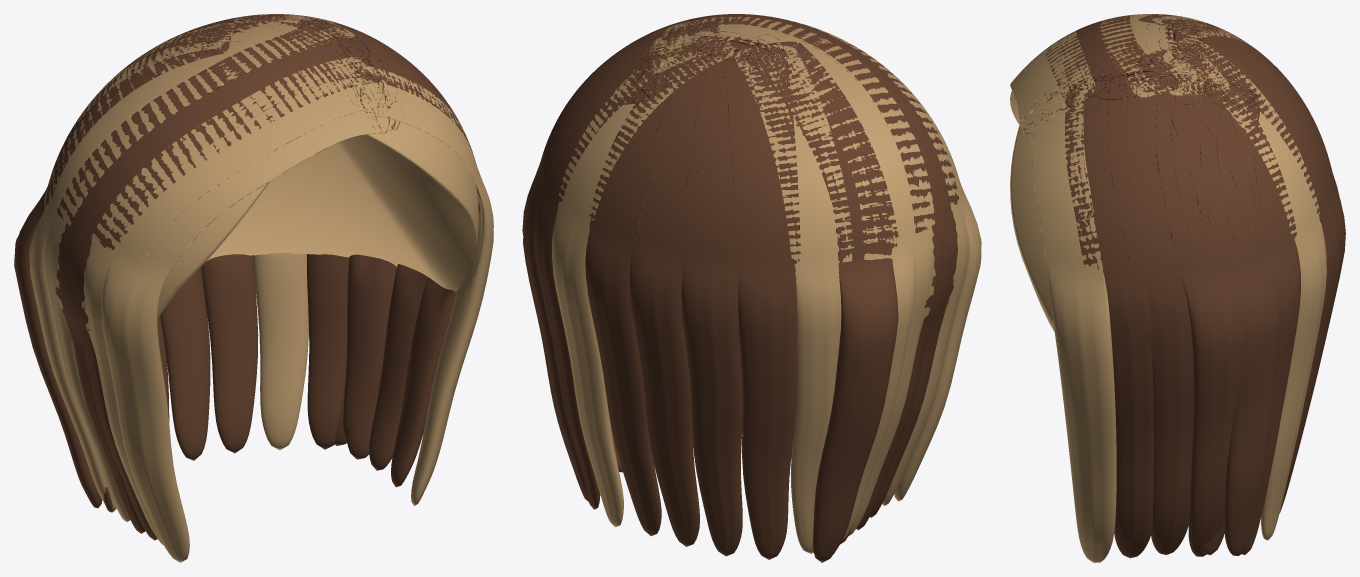
The model's file is Highlights-bd495683e1c2251-hair.glb.
3 renders of one model, left to right at view 1: azimuth 30°, elevation 25°; view 2: azimuth 150°, elevation 25°; view 3: azimuth 270°, elevation 25°, orthographic. The views are drawn at different scales.
Visible parts, largest first — view 1: 226 hair / Hair / sculpted 0.002, 226 hair / Hair / sculpted 1.004, 226 hair / Hair / sculpted 2.002, 226 hair / Hair / sculpted 1.003; view 2: 226 hair / Hair / sculpted 0.002, 226 hair / Hair / sculpted 2.002, 226 hair / Hair / sculpted 1.004; view 3: 226 hair / Hair / sculpted 1.004, 226 hair / Hair / sculpted 2.002, 226 hair / Hair / sculpted 0.002, 226 hair / Hair / sculpted 1.003.
Part boxes in pixels (x1=…): 226 hair / Hair / sculpted 0.002: x1=14, y1=14, x2=437, y2=562; 226 hair / Hair / sculpted 1.004: x1=44, y1=14, x2=493, y2=545; 226 hair / Hair / sculpted 2.002: x1=29, y1=14, x2=480, y2=540; 226 hair / Hair / sculpted 1.003: x1=157, y1=122, x2=478, y2=319; 226 hair / Hair / sculpted 0.002: x1=552, y1=14, x2=981, y2=562; 226 hair / Hair / sculpted 2.002: x1=523, y1=14, x2=958, y2=553; 226 hair / Hair / sculpted 1.004: x1=522, y1=14, x2=969, y2=559; 226 hair / Hair / sculpted 1.004: x1=1025, y1=14, x2=1341, y2=562; 226 hair / Hair / sculpted 2.002: x1=1045, y1=14, x2=1345, y2=558; 226 hair / Hair / sculpted 0.002: x1=1010, y1=14, x2=1339, y2=554; 226 hair / Hair / sculpted 1.003: x1=1010, y1=91, x2=1054, y2=331.
Size of the model in its own units: 0.9955 by 1.16 by 0.7506.
